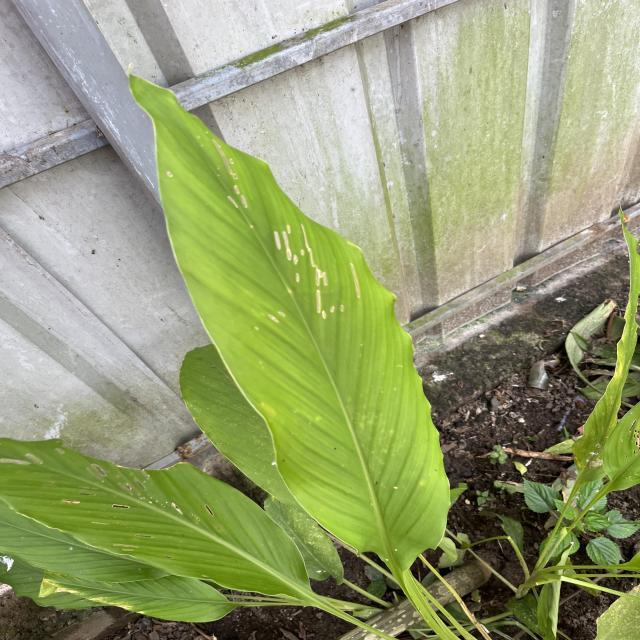Curcuma longa: (114, 54, 458, 575)
